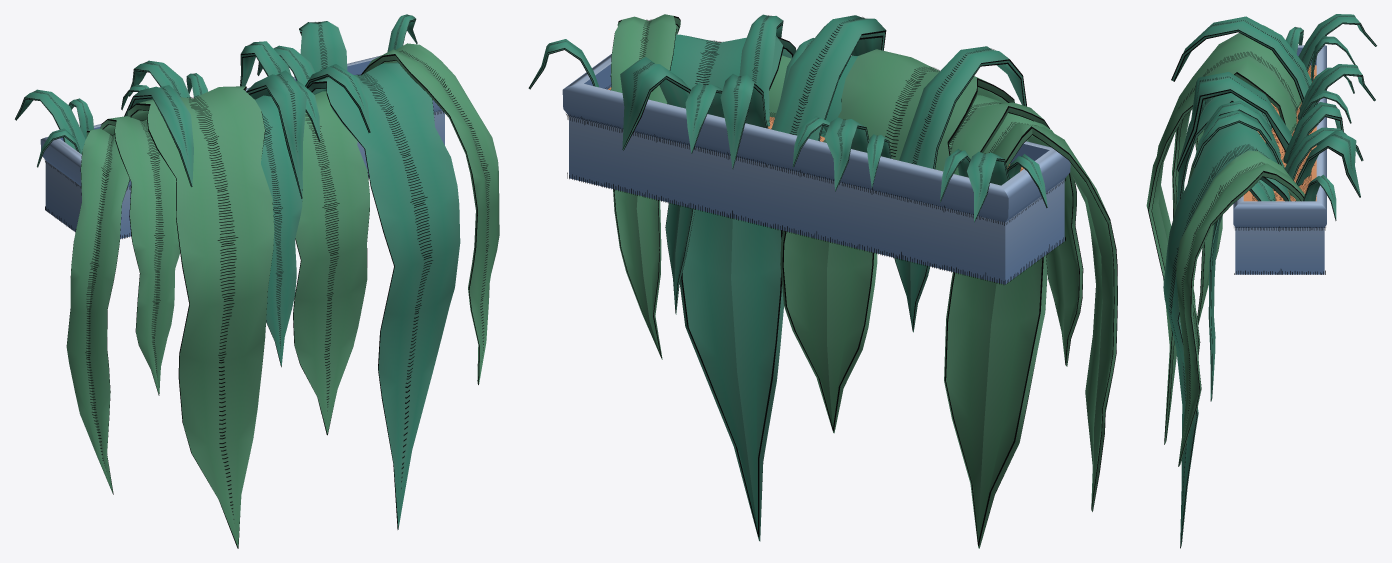
File: FlowerPot_Large_01.glb
3 views of the same model, side by side, from view 1: azimuth 30°, elevation 25°; view 2: azimuth 150°, elevation 25°; view 3: azimuth 270°, elevation 25° (orthographic). The views are drawn at different scales.
Visible parts, largest first — view 1: FlowerPot_Large_01; view 2: FlowerPot_Large_01; view 3: FlowerPot_Large_01.
Part boxes in pixels (<box>): FlowerPot_Large_01: <box>15,14,499,548</box>; FlowerPot_Large_01: <box>528,14,1117,548</box>; FlowerPot_Large_01: <box>1146,14,1376,548</box>.
Bounding box in the file's own units: 4.05 × 4.32 × 2.07.
Materials: 3 (3 with a texture image).
